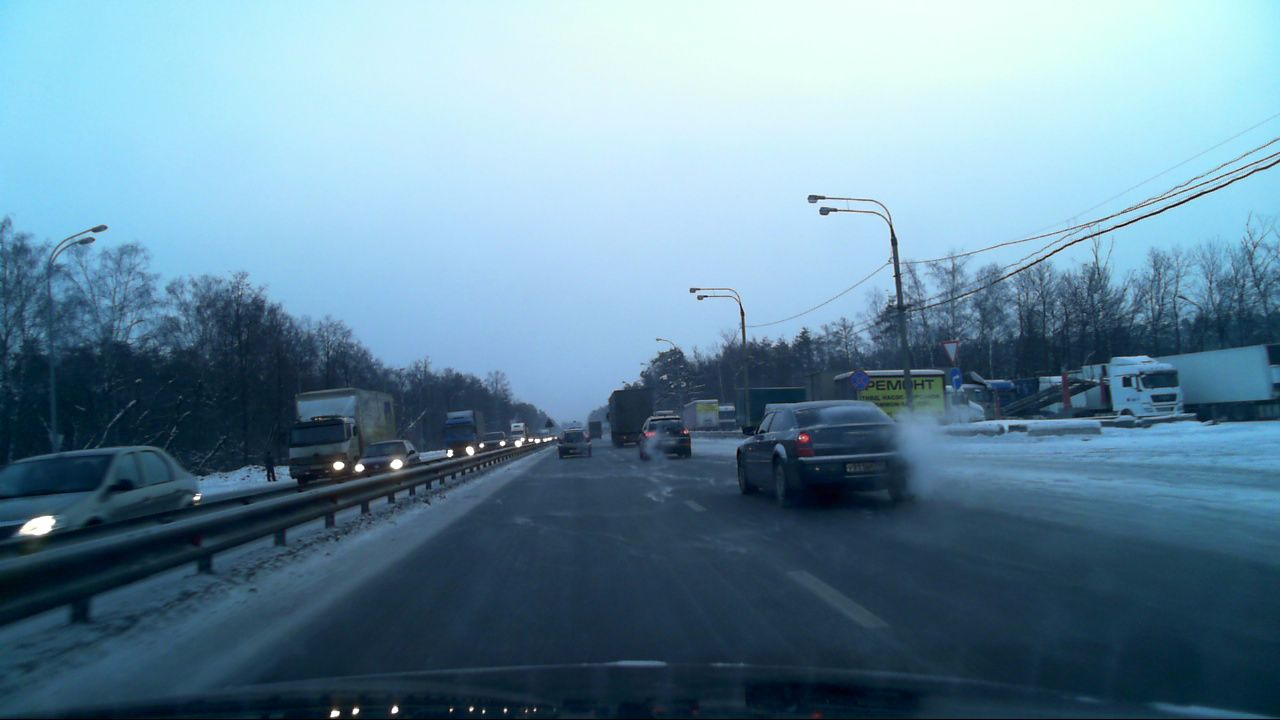No Parking: (849, 368, 870, 390)
